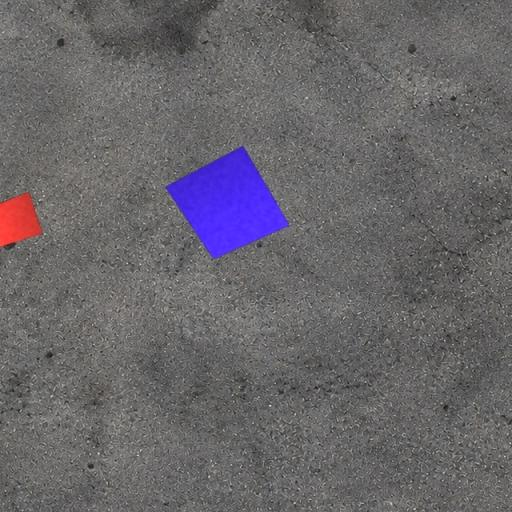BLUE_SQUARE: (164, 146, 290, 260)
RED_SQUARE: (0, 191, 43, 247)
